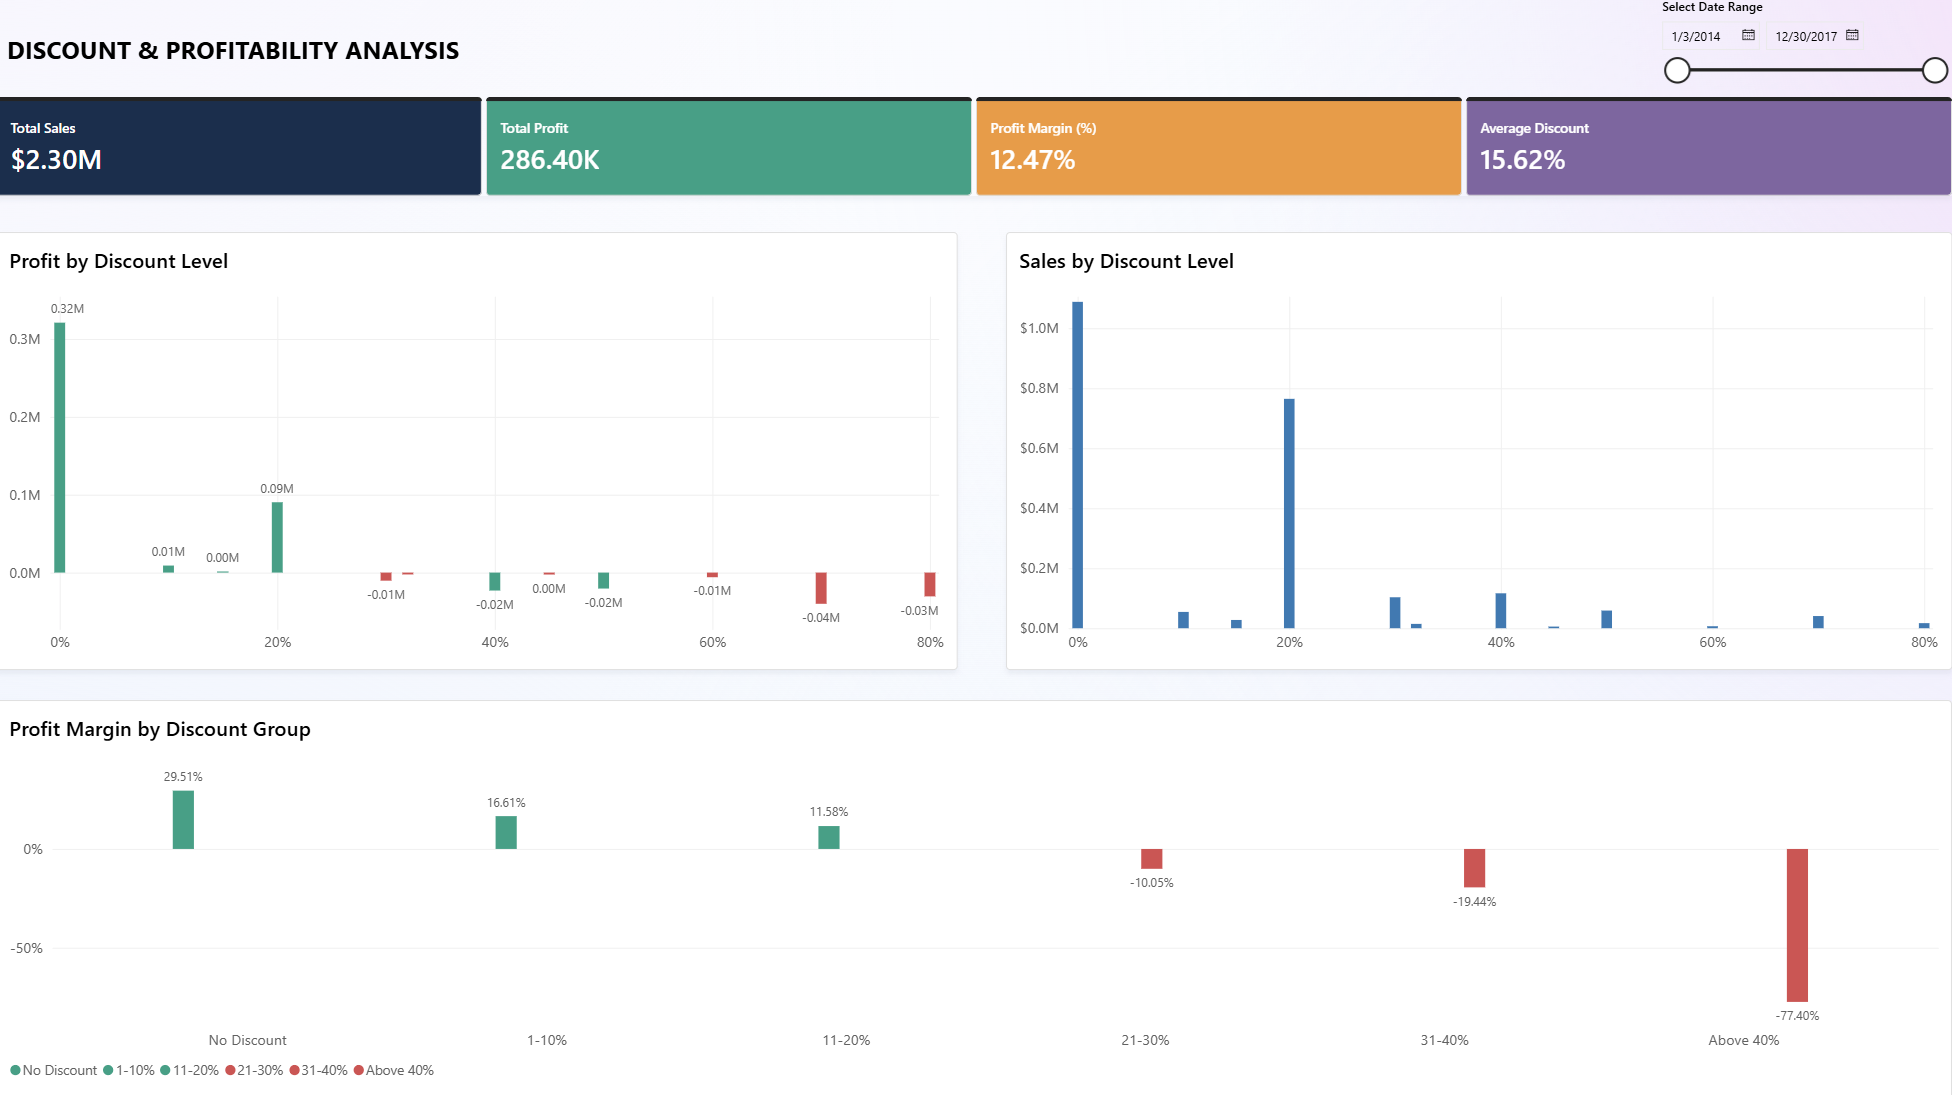

This screenshot's page, from the dashboard's own definition file:
{"tool":"powerbi","page":{"name":"Page 5","canvas":[1920,1080],"ordinal":4},"visuals":[{"type":"cardVisual","fields":{"Data":["stg_superstore.Total Sales","stg_superstore.Total Profit","stg_superstore.Profit Margin (%)","Customer Type.Average Discount"]},"box":[0,97.2,1920,97.2],"z":0},{"type":"clusteredColumnChart","title":"Profit  by Discount Level","fields":{"Category":["stg_superstore.discount"],"Y":["stg_superstore.Total Profit"]},"box":[0,229.7,944.3,429.9],"z":1000},{"type":"clusteredColumnChart","title":"Sales by Discount Level","fields":{"Category":["stg_superstore.discount"],"Y":["stg_superstore.Total Sales"]},"box":[991.4,229.7,928.6,429.9],"z":2000},{"type":"clusteredColumnChart","title":"Profit Margin by Discount Group","fields":{"Category":["stg_superstore.Discount Group"],"Series":["stg_superstore.Discount Group"],"Y":["stg_superstore.Profit Margin (%)"]},"box":[0,689.1,1920,390.7],"z":3000},{"type":"slicer","fields":{"Values":["stg_superstore.order_date"]},"box":[1627.5,0,292.5,88.3],"z":4000},{"type":"textbox","box":[10.8,34.4,678.3,70.7],"z":5001}]}

Visuals, with their boxes in screenshot pixels (x1, y1, x2, y2), scaled from the page's 1920x1080 canvas onto the 1952x1095 screenshot:
cardVisual - stg_superstore.Total Sales x stg_superstore.Total Profit: x1=0, y1=99, x2=1951, y2=197
"Profit  by Discount Level" clusteredColumnChart: x1=0, y1=233, x2=960, y2=669
"Sales by Discount Level" clusteredColumnChart: x1=1008, y1=233, x2=1951, y2=669
"Profit Margin by Discount Group" clusteredColumnChart: x1=0, y1=699, x2=1951, y2=1094
slicer - stg_superstore.order_date: x1=1655, y1=0, x2=1951, y2=90
textbox: x1=11, y1=35, x2=701, y2=107
